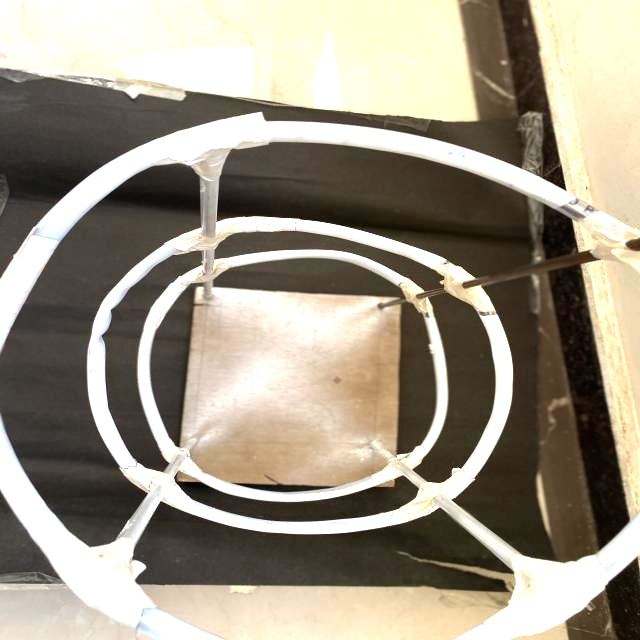silo: (2, 110, 640, 640)
